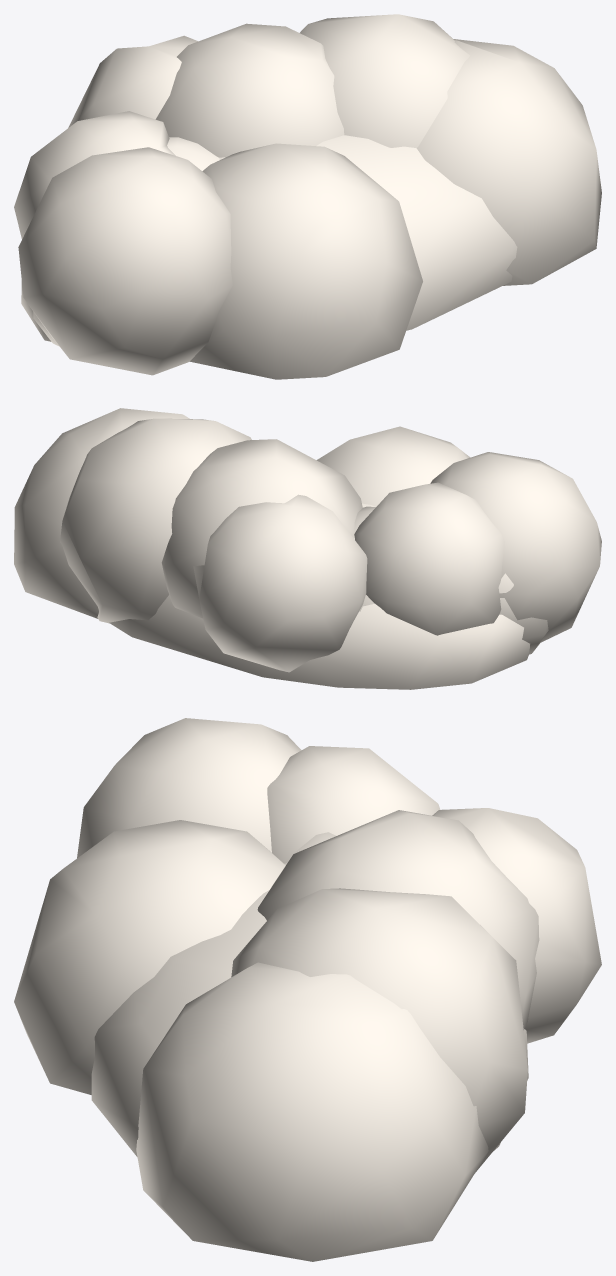
The model's file is cloud.glb.
3 renders of one model, top to bottom at view 1: azimuth 30°, elevation 25°; view 2: azimuth 150°, elevation 25°; view 3: azimuth 270°, elevation 25°, orthographic. The views are drawn at different scales.
Visible parts, largest first — view 1: cloud; view 2: cloud; view 3: cloud.
Part boxes in pixels (x1,y1,x2,y2): cloud: [14, 14, 601, 379]; cloud: [14, 408, 601, 689]; cloud: [14, 718, 601, 1261].
Bounding box in the file's own units: 14.92 × 5.14 × 10.44.
Materials: 1 (1 with a texture image).
